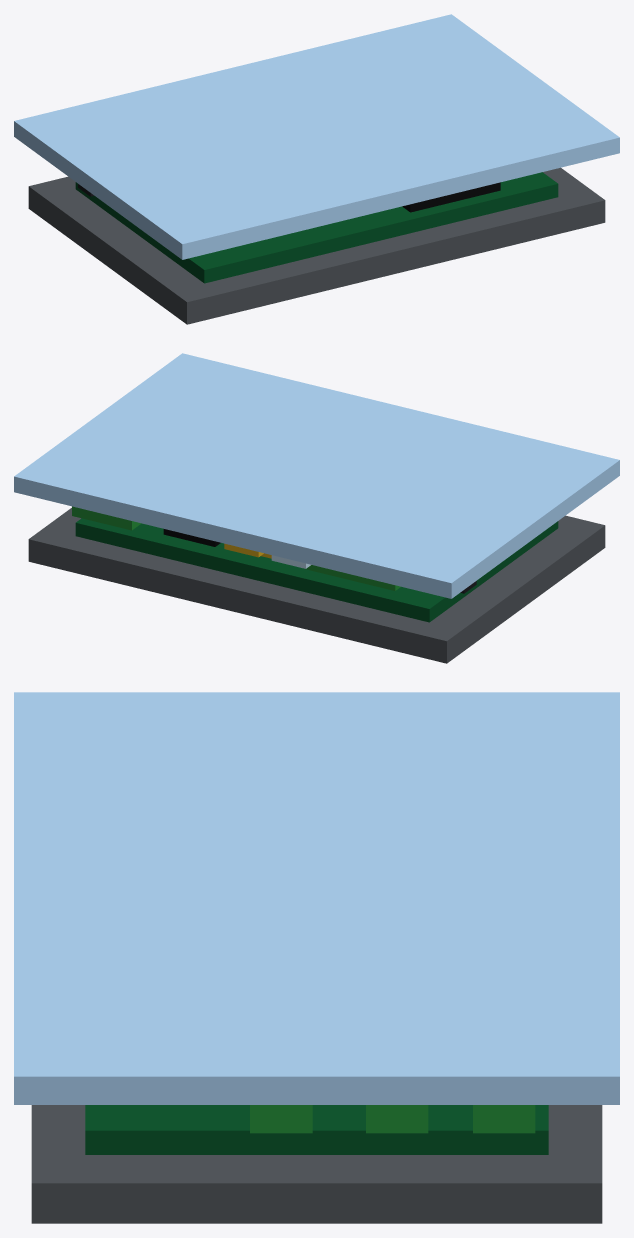
The model's file is relightx_edge_controller_board.obj.
3 views of the same model, one above another, from view 1: azimuth 30°, elevation 25°; view 2: azimuth 150°, elevation 25°; view 3: azimuth 270°, elevation 25° (orthographic). The views are drawn at different scales.
Parts seen in each view (by area): view 1: transparent_cover, weatherproof_backplate, green_pcb, buck_converter; view 2: transparent_cover, weatherproof_backplate, green_pcb, dim_b_terminal, rs485_can_terminal; view 3: transparent_cover, weatherproof_backplate, green_pcb, vin_terminal, dim_a_terminal, dim_b_terminal.
Boxes of the visible parts, x1,y1,x2,y2 form: transparent_cover: (14,14,619,259); weatherproof_backplate: (28,167,605,324); green_pcb: (75,172,558,283); buck_converter: (402,182,500,212); transparent_cover: (14,353,619,598); weatherproof_backplate: (28,508,605,663); green_pcb: (75,518,558,622); dim_b_terminal: (72,506,141,530); rs485_can_terminal: (305,565,400,590); transparent_cover: (14,692,619,1104); weatherproof_backplate: (31,1105,602,1223); green_pcb: (85,1105,548,1154); vin_terminal: (250,1105,312,1133); dim_a_terminal: (366,1105,428,1133); dim_b_terminal: (473,1105,535,1133).
Bounding box in the file's own units: 2.04 × 0.385 × 1.36.
